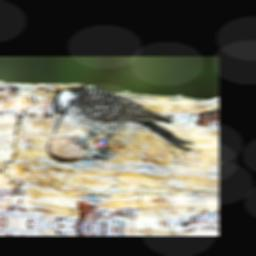Woodpecker: (49, 83, 196, 164)
